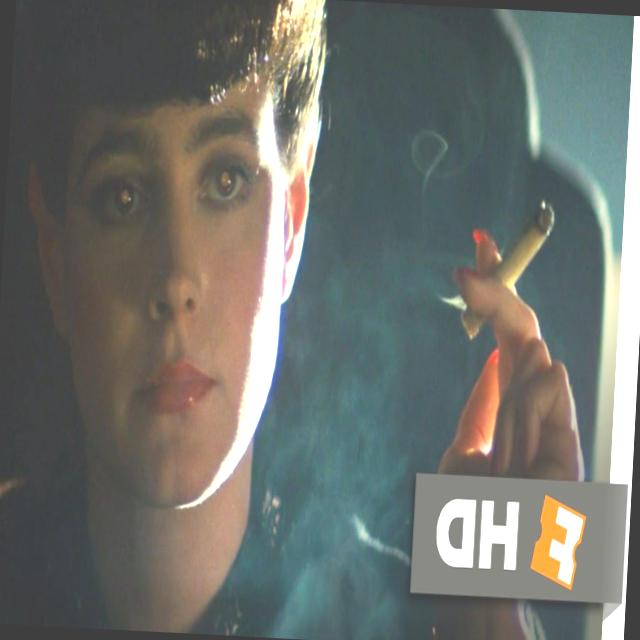smoke: (438, 176, 572, 370)
